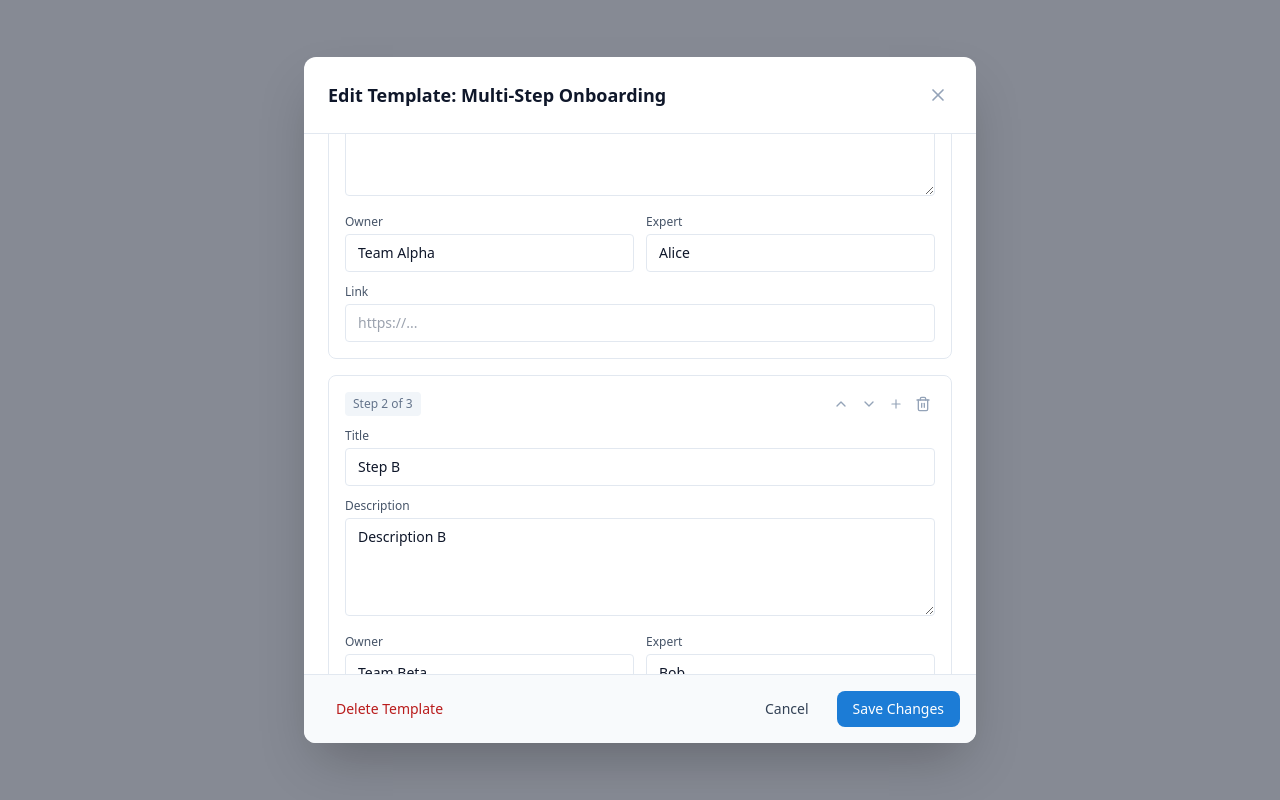
Test: TemplateModal › TemplateModal - step reorder › should move step up when clicking move-up button
This screenshot has width=1280, height=800.
(page scrolled)
Expected: the field showing "Step B" is shown, left=345, top=448, right=935, bottom=486
Click the button named "Move step 2 up": (841, 404) left=829, top=392, right=853, bottom=416
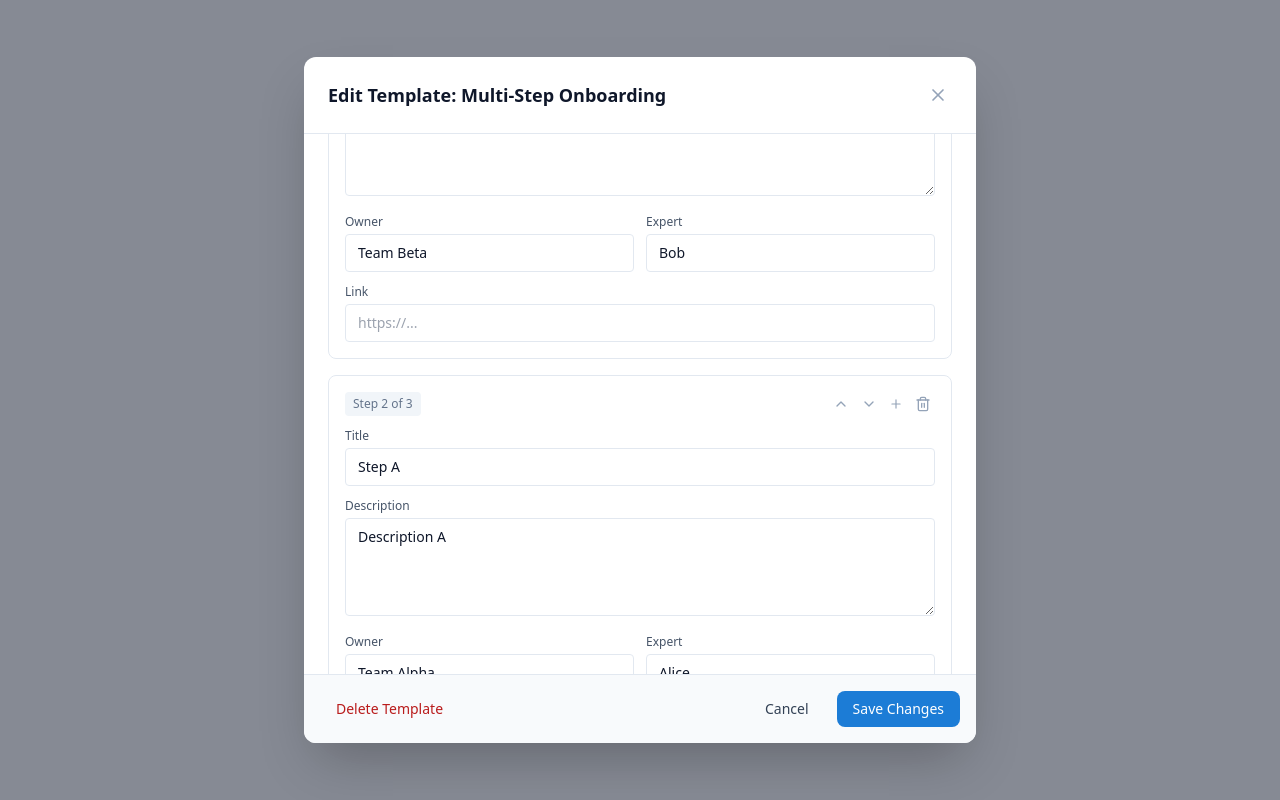
Result: the field named "Step 2 title" holds "Step A" at left=345, top=448, right=935, bottom=486
